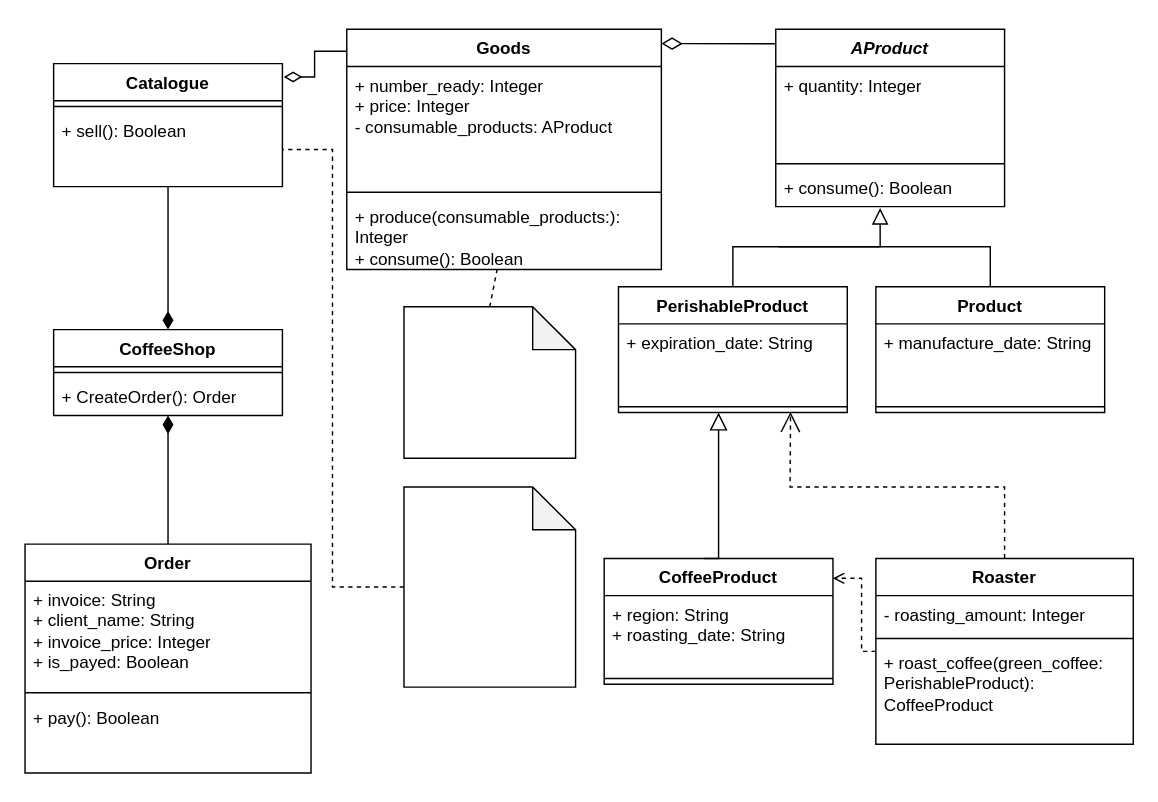
The diagram is 1158 pixels wide and 802 high, and some of its shapes have lost their labels. Each missing label, with the centre of its shape:
In produce method consume products: (x=489, y=381)
In sell method consume goods or produce them: (x=489, y=586)
